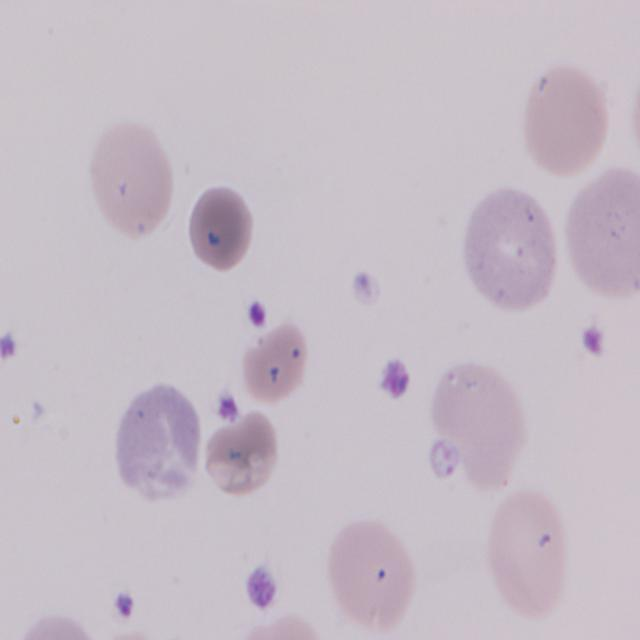RBC: (482, 484, 570, 626), (82, 110, 178, 238), (463, 190, 561, 315), (323, 512, 418, 635), (519, 61, 613, 182), (559, 164, 640, 302), (236, 318, 310, 408), (221, 608, 334, 640), (4, 612, 104, 640), (624, 36, 640, 187), (94, 619, 174, 640)
Spherocyte: (185, 184, 255, 274)
